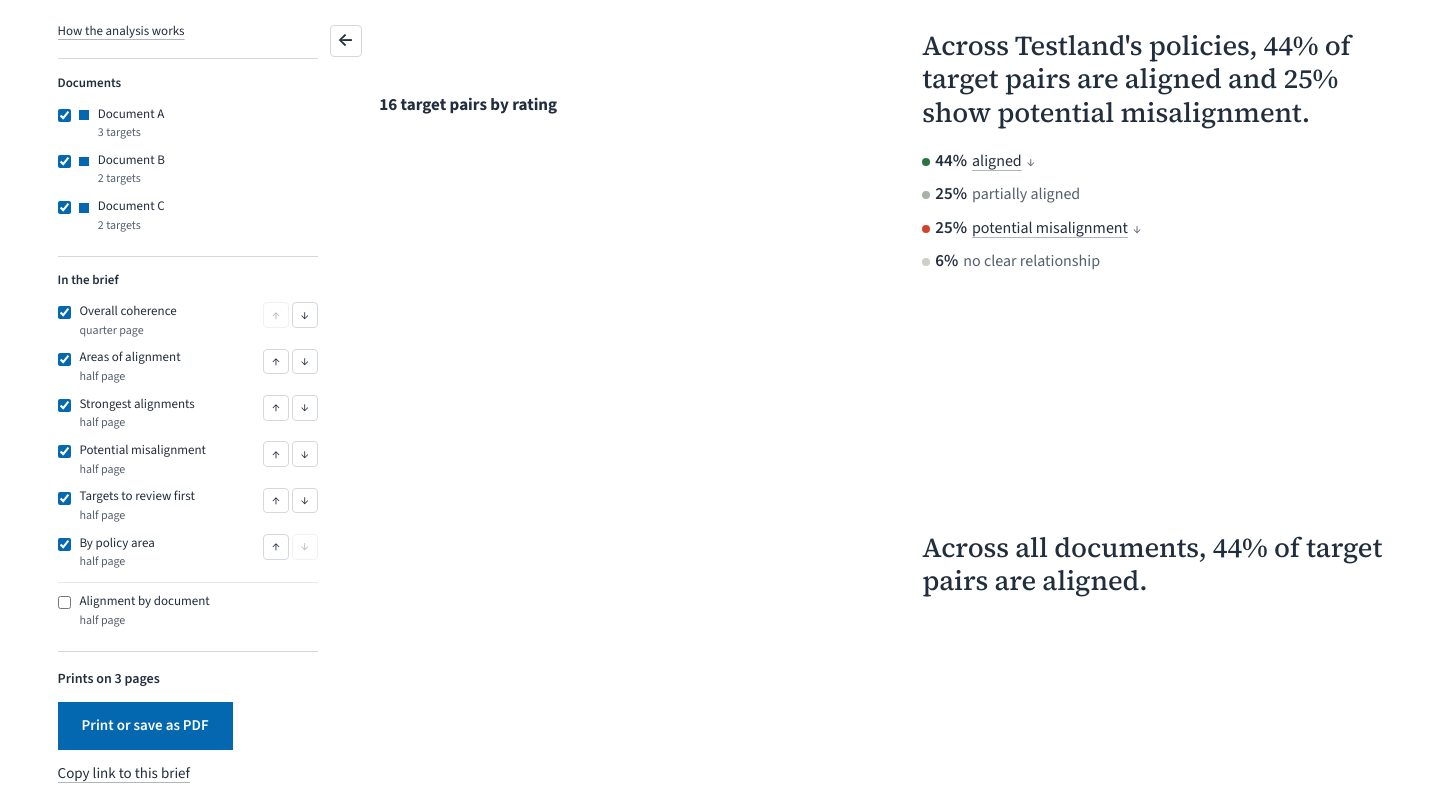
Test: BriefApp › drops a page when sections are left out
The image size is (1440, 810).
(page scrolled)
Click the checkbox labelled "Strongest alignments half page".
click(64, 406)  # box [58, 399, 71, 412]
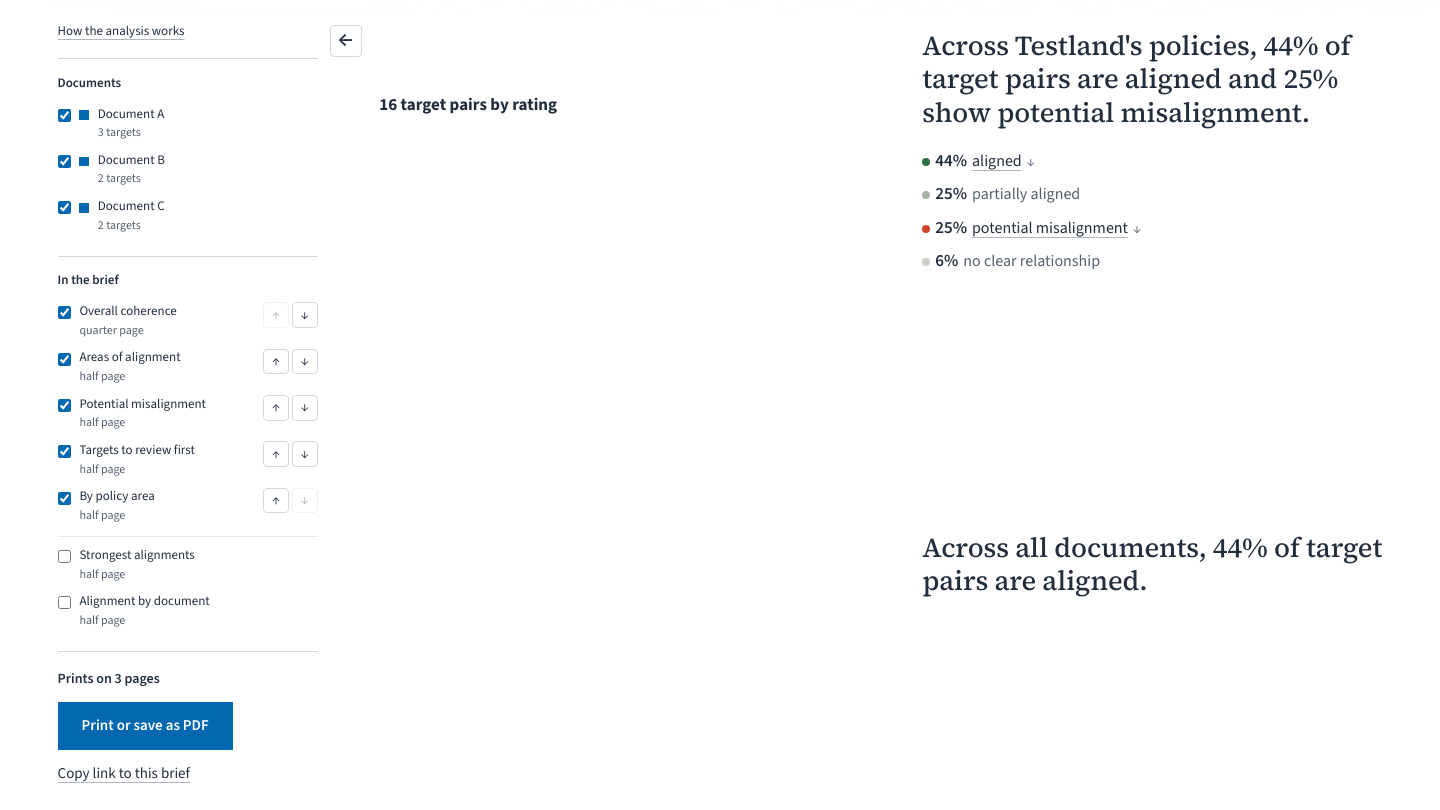
Click the checkbox labelled "Areas of alignment half page".
click(64, 359)  # box [58, 353, 71, 366]
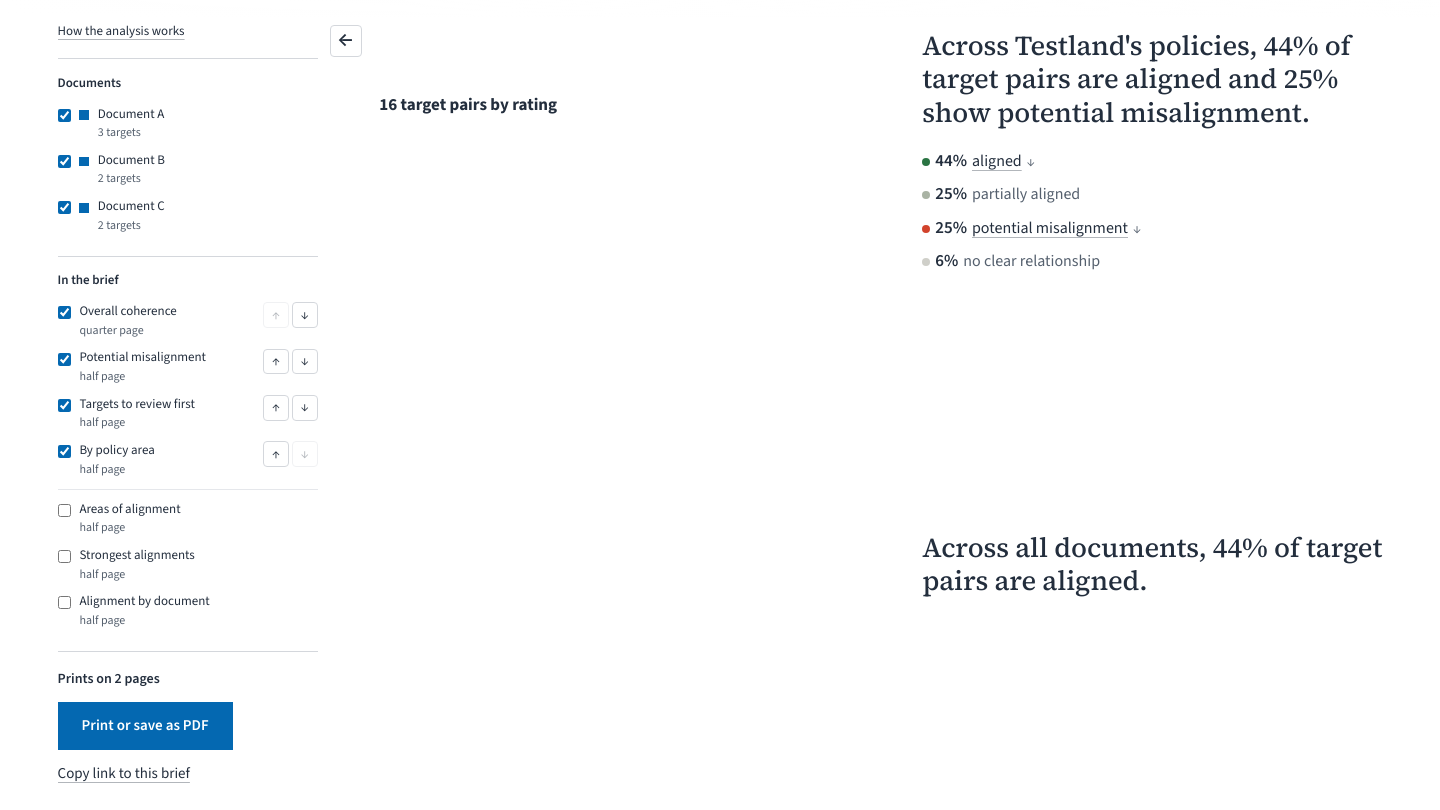
Expected: the text "Prints on 2 pages" is shown, [58, 668, 160, 690]
